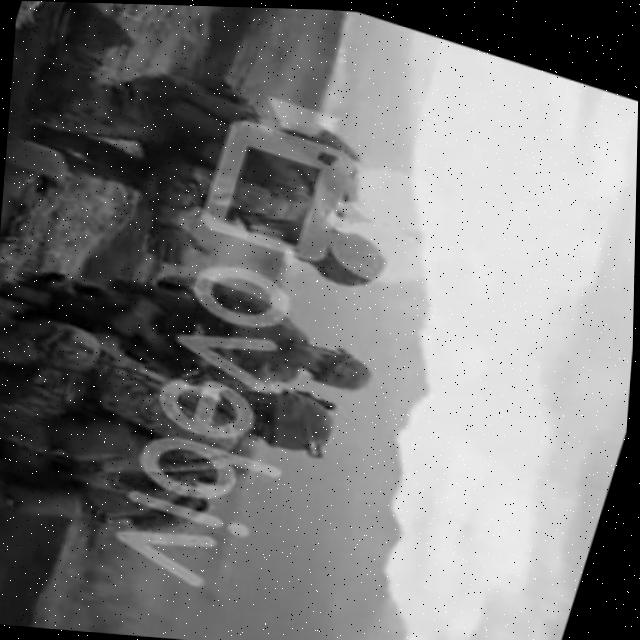rocket: (0, 132, 68, 436)
